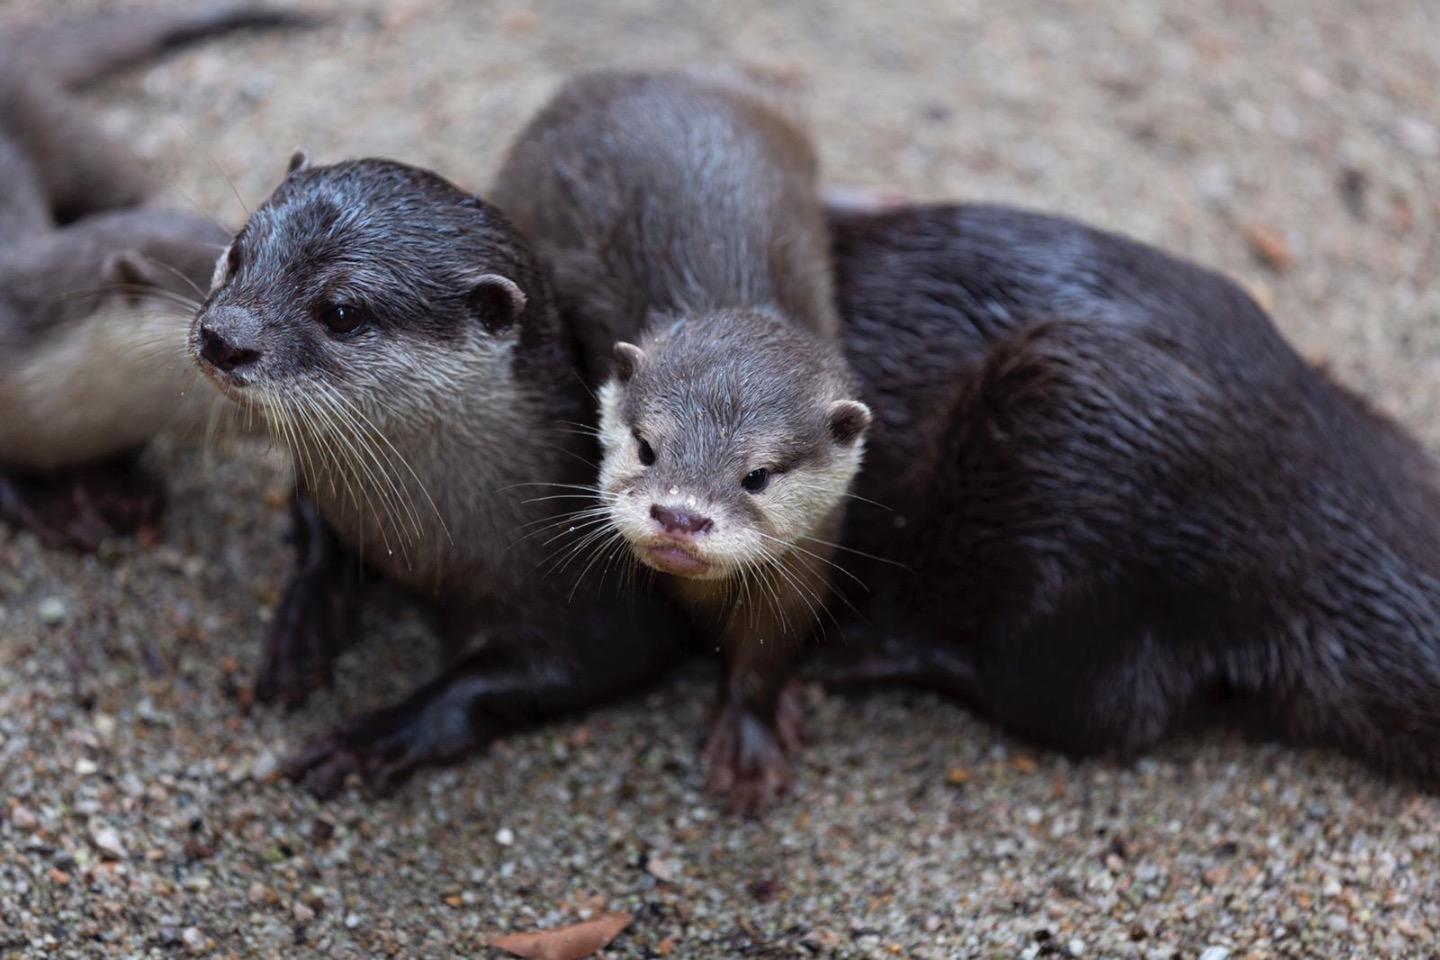otter: (152, 145, 1440, 827), (459, 25, 905, 821)
